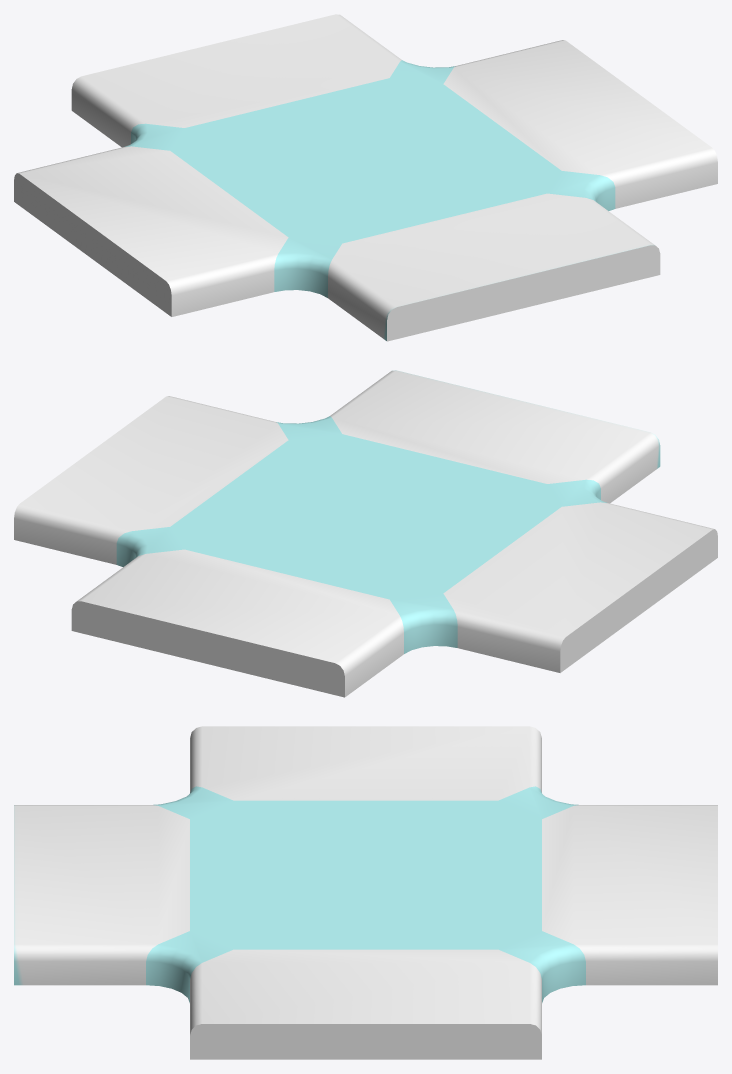
File: IntersectionBig_blue.fbx
The picture shows the model from 3 angles, top to bottom: view 1: azimuth 30°, elevation 25°; view 2: azimuth 150°, elevation 25°; view 3: azimuth 270°, elevation 25°; orthographic projection. The views are drawn at different scales.
Parts seen in each view (by area): view 1: IntersectionBig; view 2: IntersectionBig; view 3: IntersectionBig.
Part boxes in pixels (left/top/right/bottom): IntersectionBig: left=14, top=14, right=717, bottom=341; IntersectionBig: left=14, top=370, right=717, bottom=697; IntersectionBig: left=14, top=726, right=717, bottom=1059.
Size of the model in its own units: 600 by 33.61 by 600.
1 material, 1 textured.
